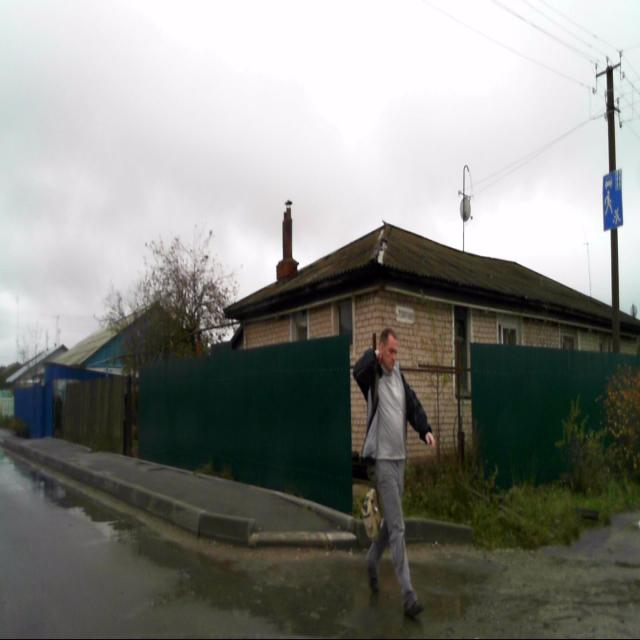road sign: (602, 168, 623, 231)
